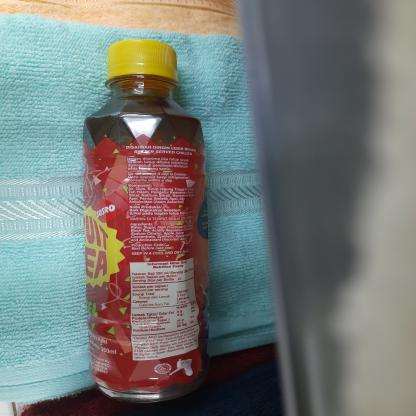bottle: (79, 39, 215, 404)
